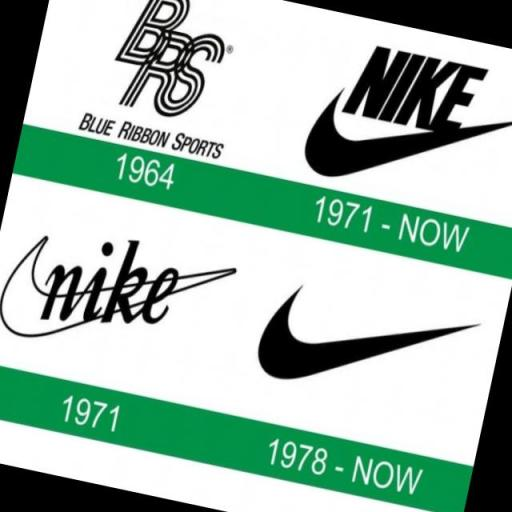Nike: (251, 276, 482, 418), (344, 41, 490, 140)
